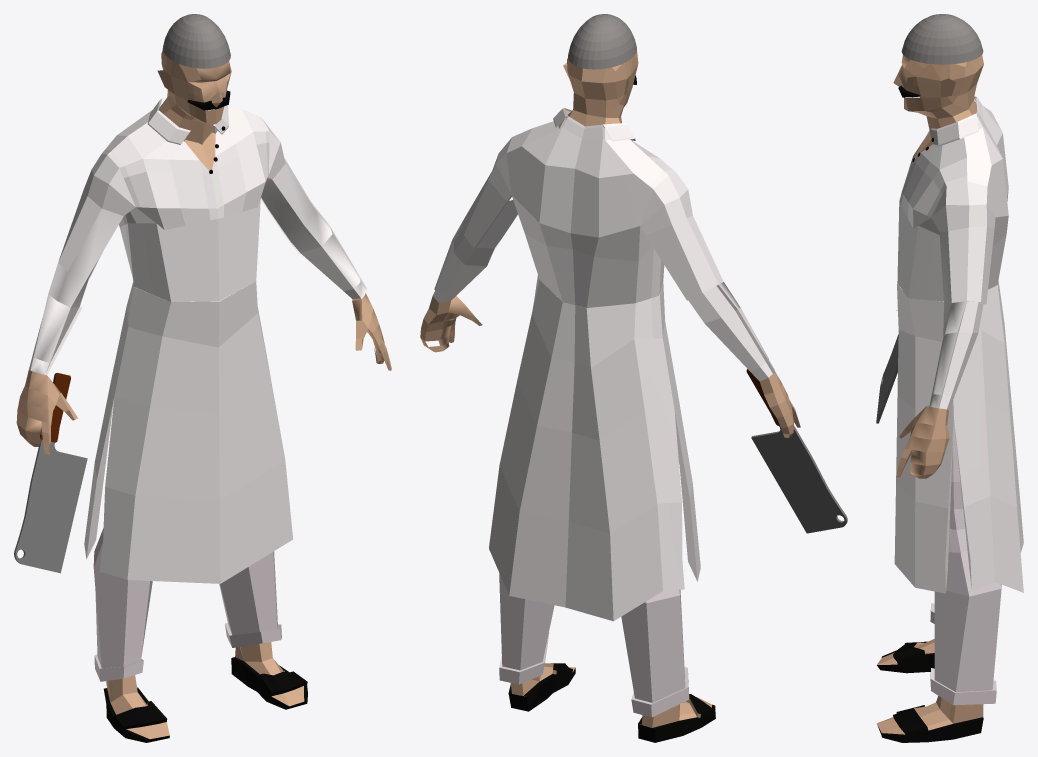
Rendered from Qassai.gltf.
3 renders of one model, left to right at view 1: azimuth 30°, elevation 25°; view 2: azimuth 150°, elevation 25°; view 3: azimuth 270°, elevation 25°, orthographic.
Parts seen in each view (by area): view 1: Qassai; view 2: Qassai; view 3: Qassai.
Part boxes in pixels (left/top/right/bottom): Qassai: left=14, top=14, right=391, bottom=742; Qassai: left=420, top=14, right=847, bottom=742; Qassai: left=876, top=14, right=1023, bottom=742.
Bounding box in the file's own units: 212 × 353 × 69.32.
